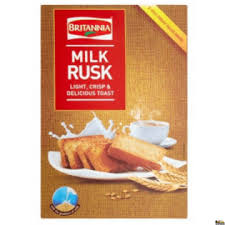Britania-toast-large: (40, 3, 189, 216)
